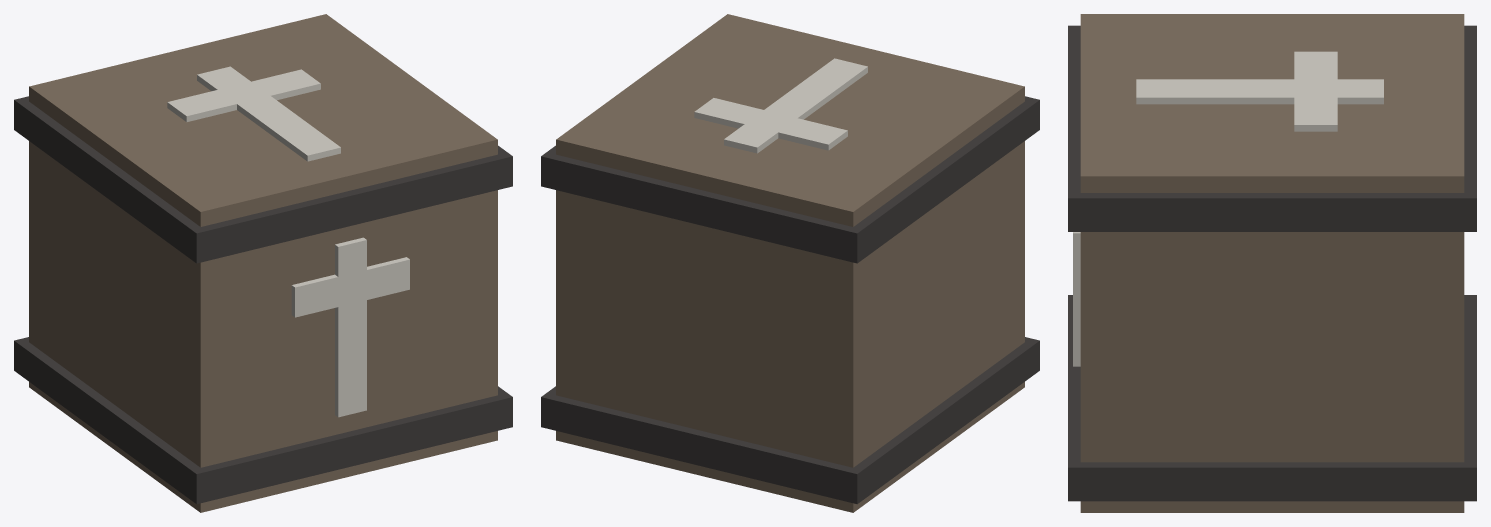
File: OrderCrate.fbx
3 renders of one model, left to right at view 1: azimuth 30°, elevation 25°; view 2: azimuth 150°, elevation 25°; view 3: azimuth 270°, elevation 25°, orthographic. The views are drawn at different scales.
Visible parts, largest first — view 1: OrderCrate; view 2: OrderCrate; view 3: OrderCrate.
Boxes of the visible parts, x1,y1,x2,y2 form: OrderCrate: (14,14,512,512); OrderCrate: (541,14,1039,512); OrderCrate: (1068,14,1476,512).
Bounding box in the file's own units: 66 × 61.2 × 66.
